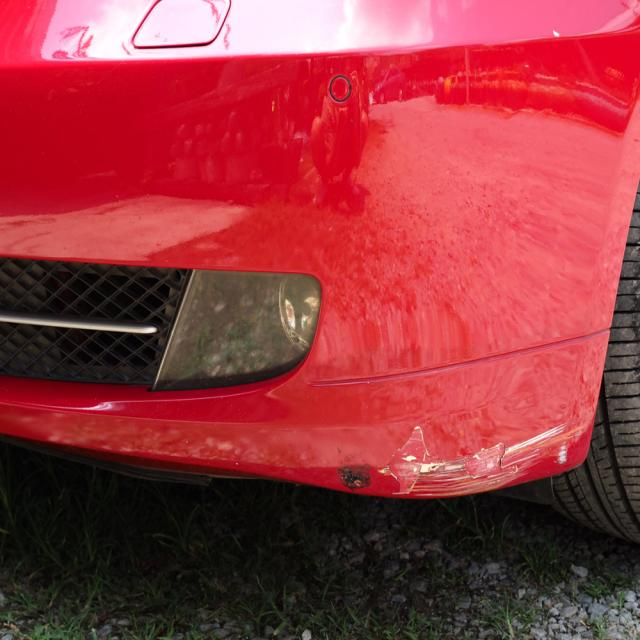scratch: (335, 415, 582, 496)
